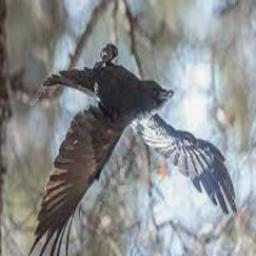Crow: (28, 43, 238, 256)
